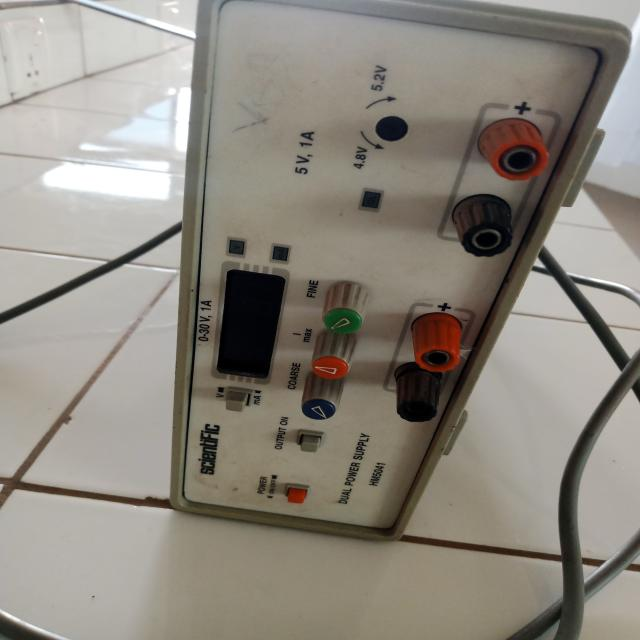Digital Power Supply: (161, 3, 637, 537)
